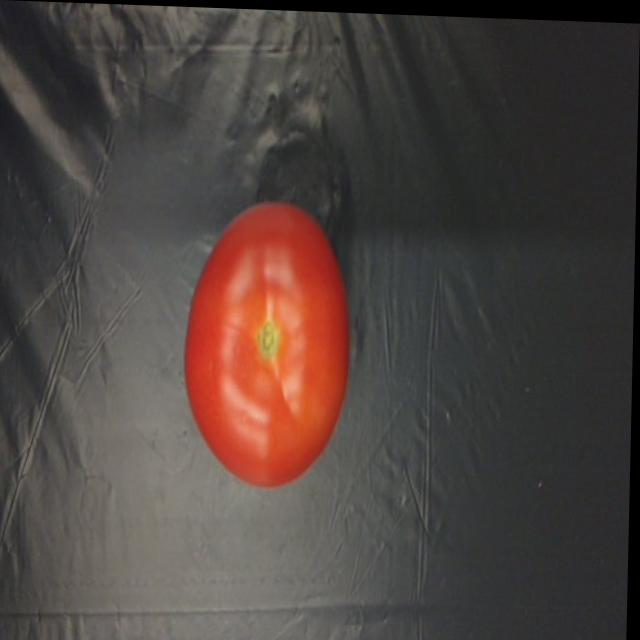kirmizi: (180, 186, 368, 497)
